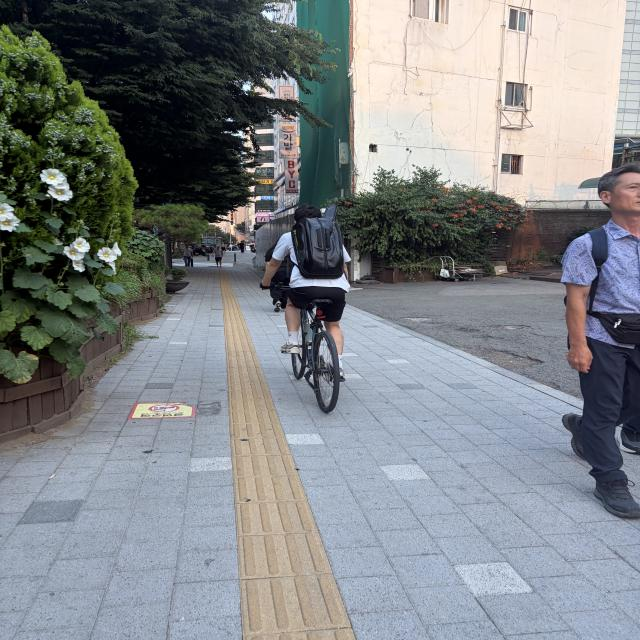bicycle: (247, 229, 398, 441)
